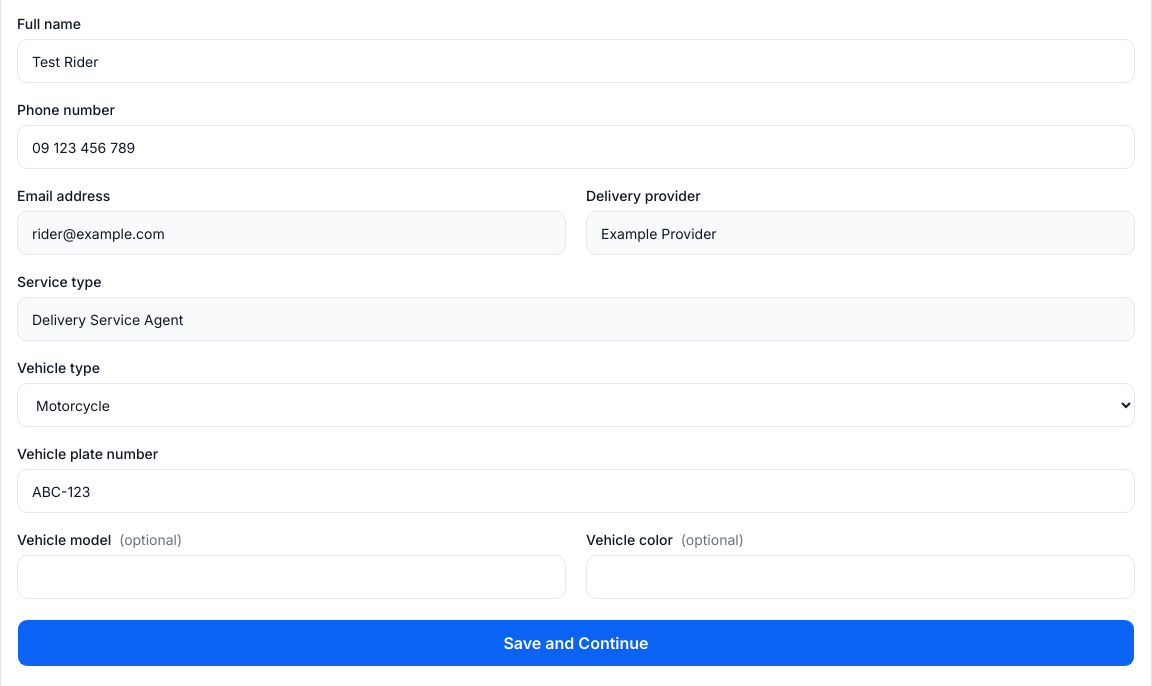
Scenario: reports network failures without claiming completion
(page scrolled)
Expected: the field labelled "Full name" is shown, left=17, top=39, right=1135, bottom=83
Click the button "Save and Continue" at {"x": 576, "y": 643}, box left=17, top=619, right=1135, bottom=667
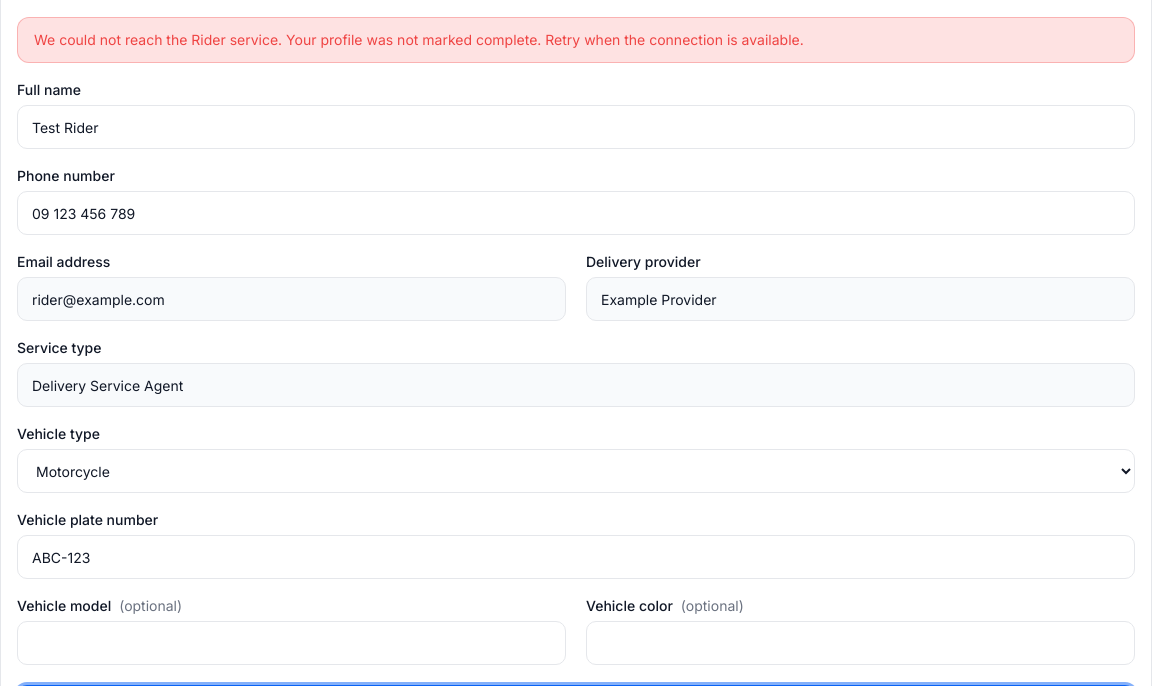
Result: the message shows "could not reach the Rider service" at left=34, top=31, right=804, bottom=48
